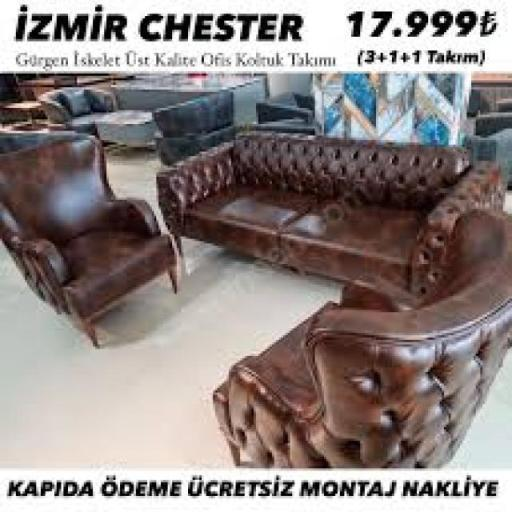sofa: (160, 112, 500, 284), (0, 119, 186, 368), (240, 291, 512, 460)
